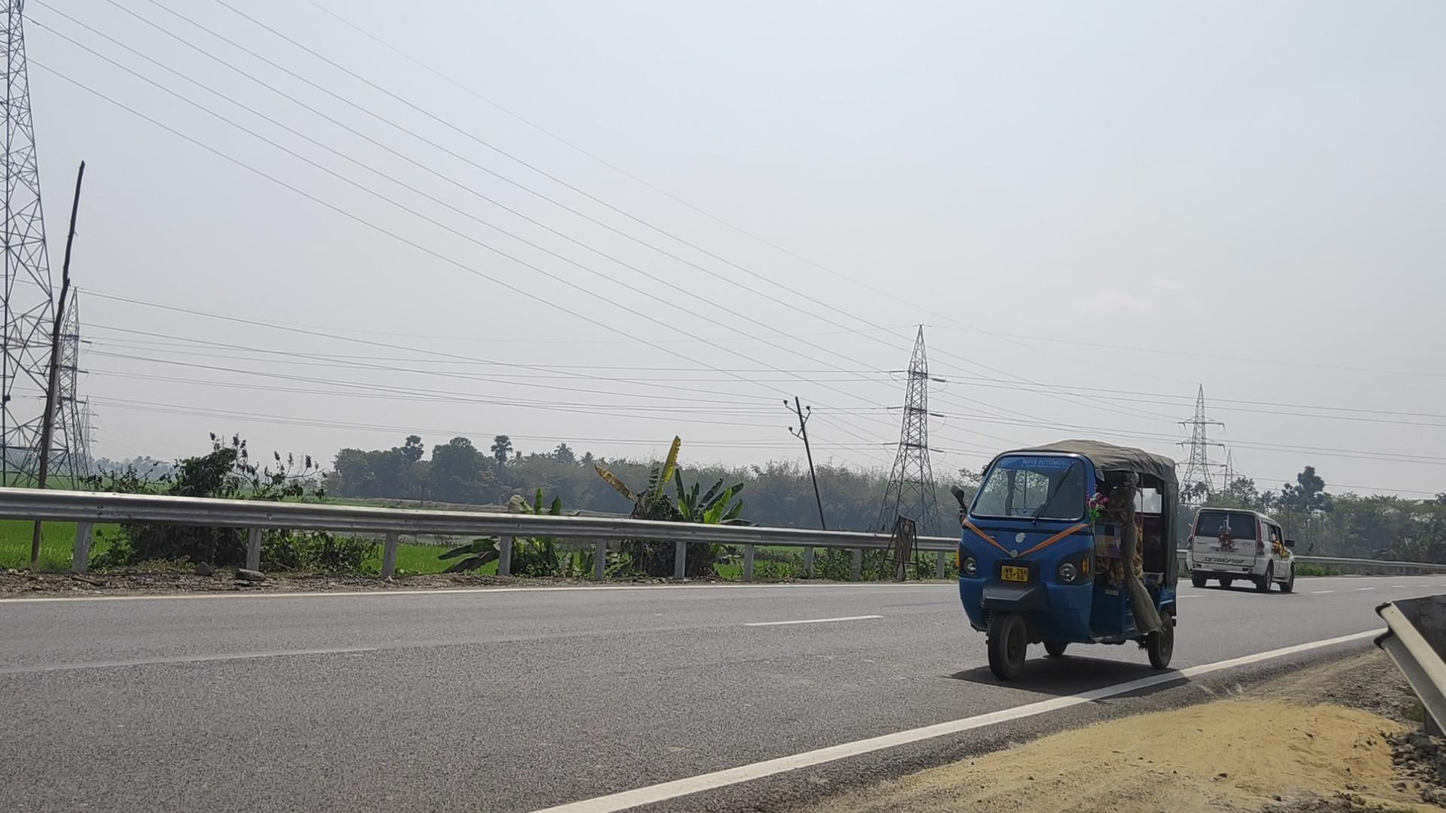Auto: (950, 439, 1180, 681)
car: (1186, 507, 1296, 593)
